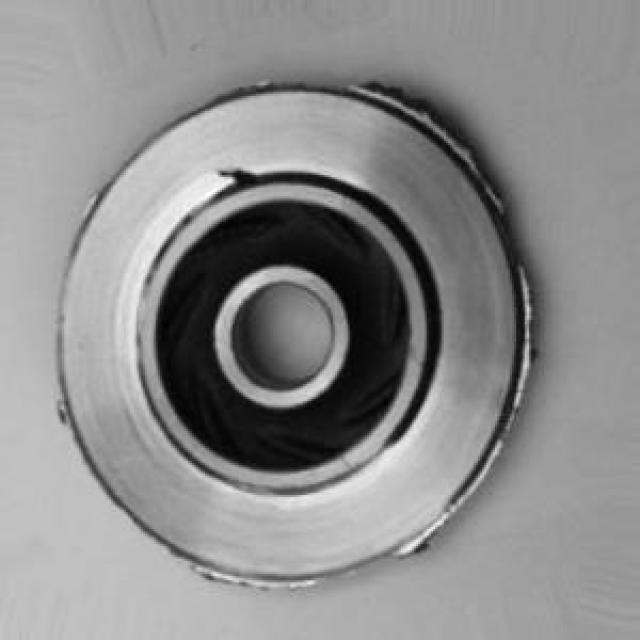Defect: (201, 160, 264, 190)
